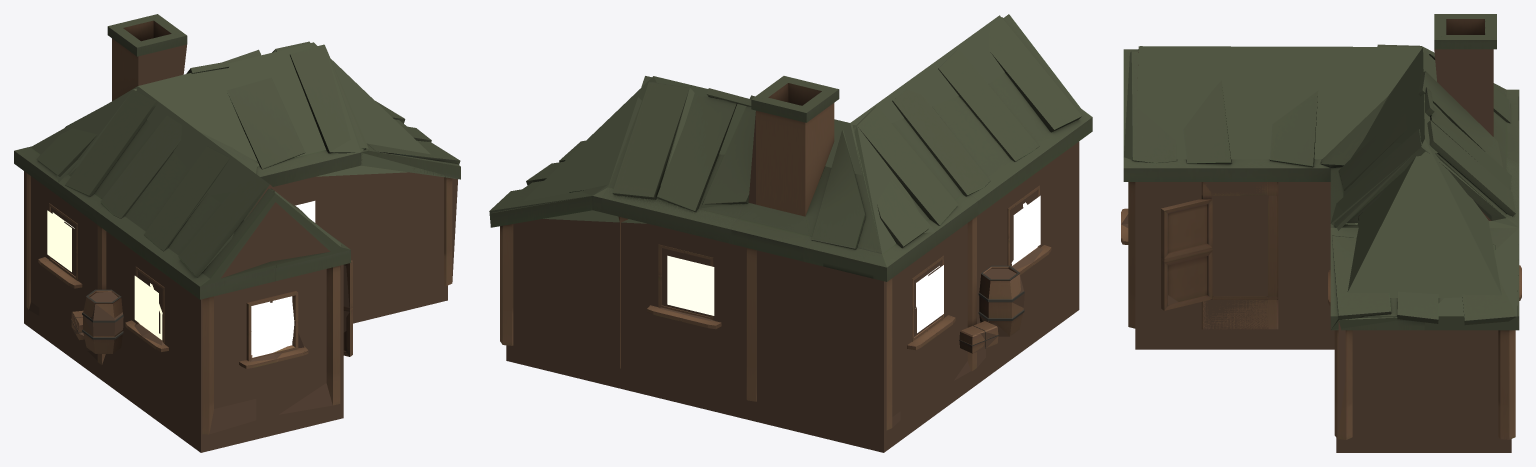
Rendered from house-DxpZfVyu.gltf.
The picture shows the model from 3 angles, left to right: view 1: azimuth 30°, elevation 25°; view 2: azimuth 150°, elevation 25°; view 3: azimuth 270°, elevation 25°; orthographic projection. The views are drawn at different scales.
Parts seen in each view (by area): view 1: lod3, lod1, lod2; view 2: lod3, lod1, lod2; view 3: lod3, lod1, lod2.
Boxes of the visible parts, x1=… form: lod3: x1=24, y1=42, x2=447, y2=452; lod1: x1=14, y1=14, x2=460, y2=434; lod2: x1=29, y1=44, x2=458, y2=434; lod3: x1=506, y1=15, x2=1079, y2=452; lod1: x1=490, y1=14, x2=1092, y2=430; lod2: x1=489, y1=17, x2=1042, y2=427; lod3: x1=1135, y1=46, x2=1511, y2=452; lod1: x1=1121, y1=14, x2=1521, y2=439; lod2: x1=1121, y1=46, x2=1519, y2=437.
Size of the model in its own units: 8.51 by 5.93 by 7.15.
Materials: 6 (2 with a texture image).
